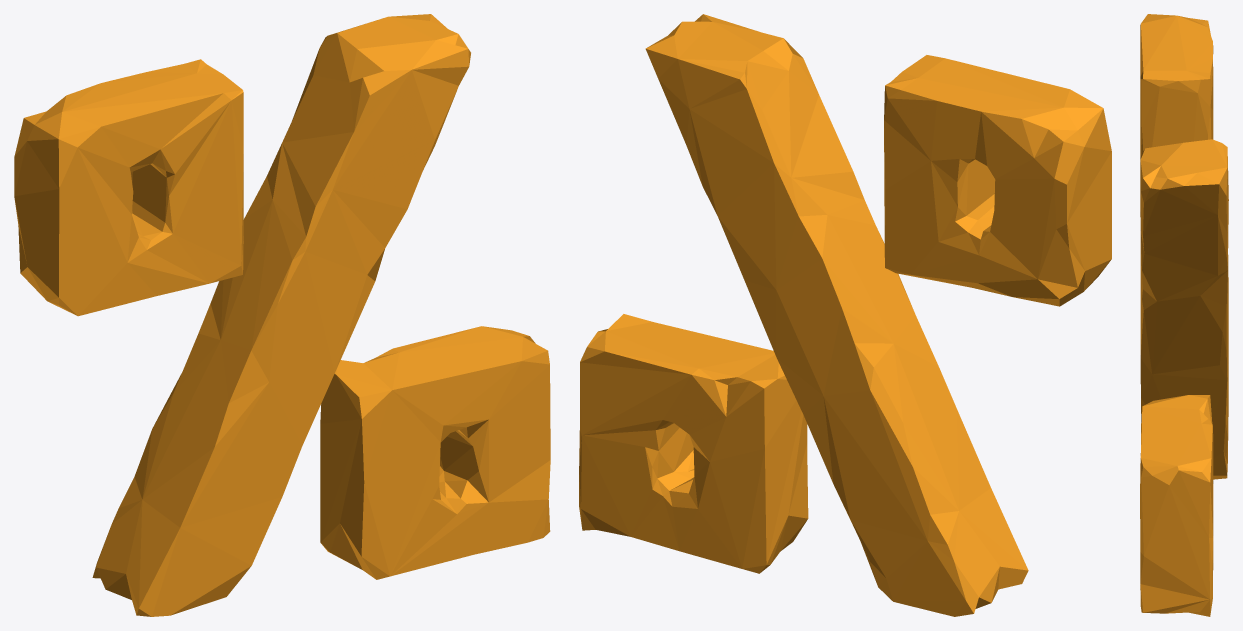
Rendered from SM_Icon_Number_Percentage_01.fbx.
3 views of the same model, side by side, from view 1: azimuth 30°, elevation 25°; view 2: azimuth 150°, elevation 25°; view 3: azimuth 270°, elevation 25° (orthographic). The views are drawn at different scales.
Visible parts, largest first — view 1: SM_Icon_Number_Percentage_01; view 2: SM_Icon_Number_Percentage_01; view 3: SM_Icon_Number_Percentage_01.
Boxes of the visible parts, x1,y1,x2,y2 form: SM_Icon_Number_Percentage_01: [14, 14, 550, 616]; SM_Icon_Number_Percentage_01: [579, 14, 1111, 616]; SM_Icon_Number_Percentage_01: [1140, 14, 1228, 616].
Bounding box in the file's own units: 55.29 × 55.79 × 10.68.
